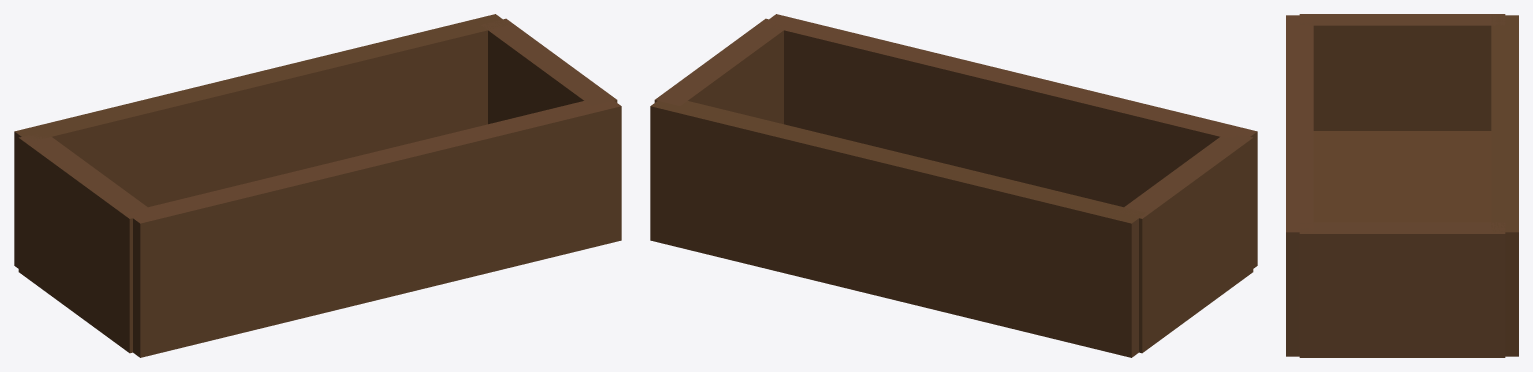
The model's file is summer-props.glb.
The picture shows the model from 3 angles, left to right: view 1: azimuth 30°, elevation 25°; view 2: azimuth 150°, elevation 25°; view 3: azimuth 270°, elevation 25°; orthographic projection. The views are drawn at different scales.
Parts seen in each view (by area): view 1: summer-props; view 2: summer-props; view 3: summer-props.
Boxes of the visible parts, x1,y1,x2,y2 form: summer-props: [14, 14, 621, 357]; summer-props: [650, 14, 1257, 357]; summer-props: [1286, 14, 1518, 357].
Size of the model in its own units: 1.52 by 0.4001 by 0.6799.
